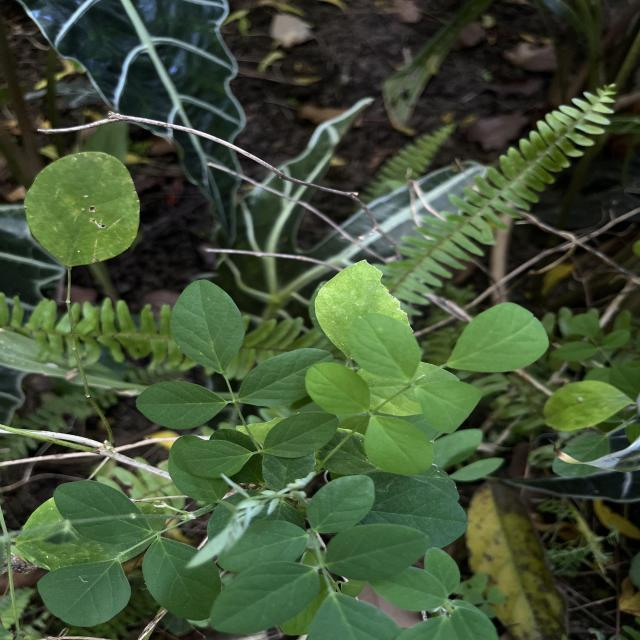Clitoria ternatea: (168, 278, 248, 375), (36, 558, 132, 628), (236, 348, 342, 408), (135, 380, 228, 430), (262, 411, 341, 459), (172, 439, 254, 479)
